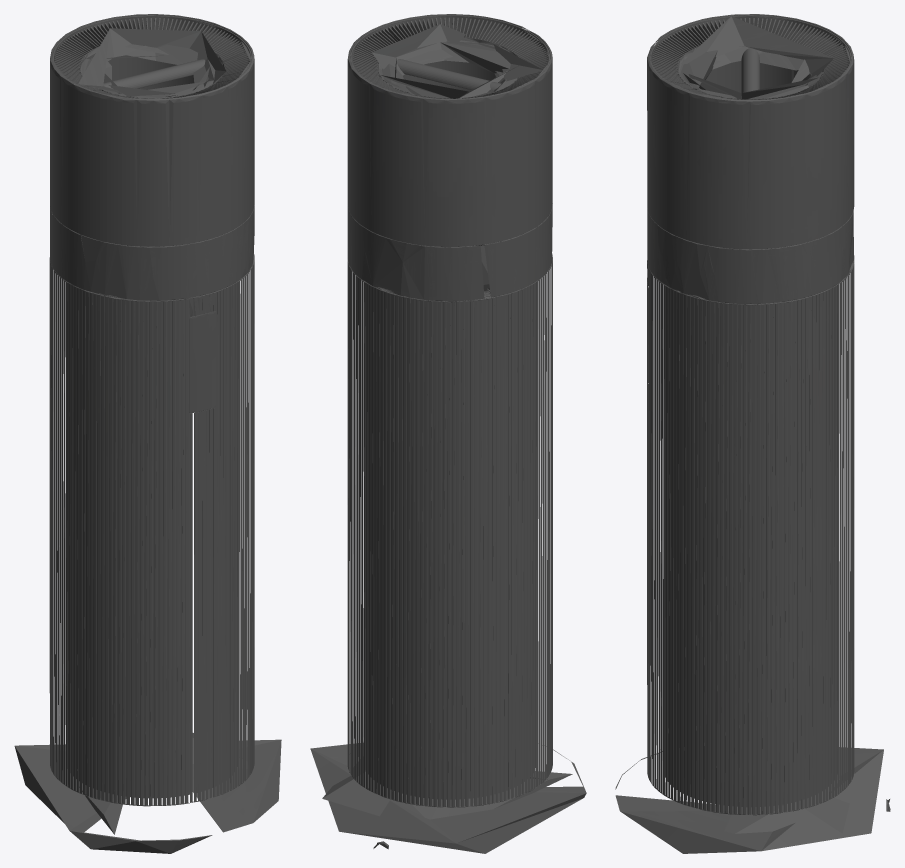
File: humidifier_a01.glb
The picture shows the model from 3 angles, left to right: view 1: azimuth 30°, elevation 25°; view 2: azimuth 150°, elevation 25°; view 3: azimuth 270°, elevation 25°; orthographic projection.
Visible parts, largest first — view 1: geometry_0; view 2: geometry_0; view 3: geometry_0.
Part boxes in pixels (<box>): geometry_0: <box>14,14,281,853</box>; geometry_0: <box>310,14,586,853</box>; geometry_0: <box>615,14,890,853</box>.
Size of the model in its own units: 0.1445 by 0.42 by 0.1395.
Materials: 1 (1 with a texture image).
